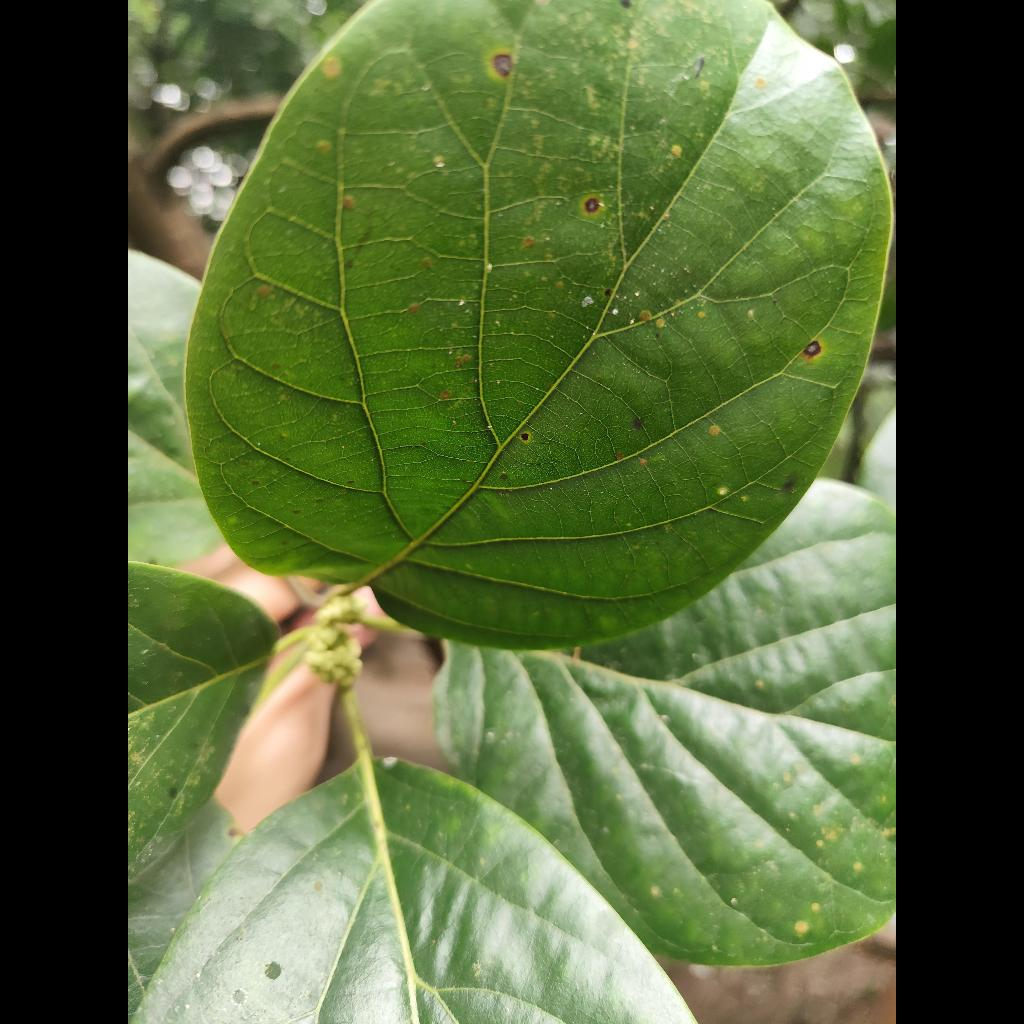Anthracnose: (187, 0, 889, 647)
